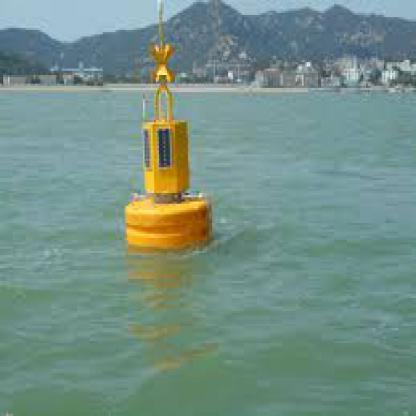buoy: (120, 7, 221, 255)
